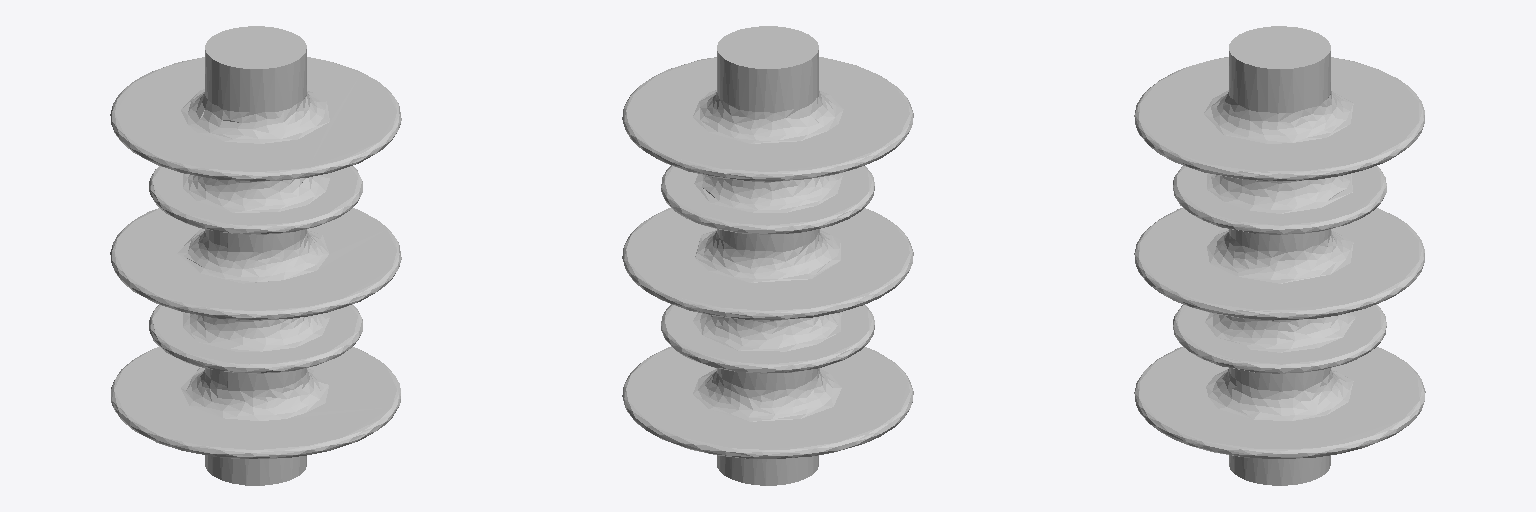
File: 复合支柱绝缘子-1.obj
3 views of the same model, side by side, from view 1: azimuth 30°, elevation 25°; view 2: azimuth 150°, elevation 25°; view 3: azimuth 270°, elevation 25° (orthographic).
Parts seen in each view (by area): view 1: 复合支柱绝缘子-1; view 2: 复合支柱绝缘子-1; view 3: 复合支柱绝缘子-1.
Boxes of the visible parts, <box> form: 复合支柱绝缘子-1: <box>110,26,401,485</box>; 复合支柱绝缘子-1: <box>622,26,913,485</box>; 复合支柱绝缘子-1: <box>1134,26,1425,485</box>.
Bounding box in the file's own units: 11.43 × 18 × 11.41.